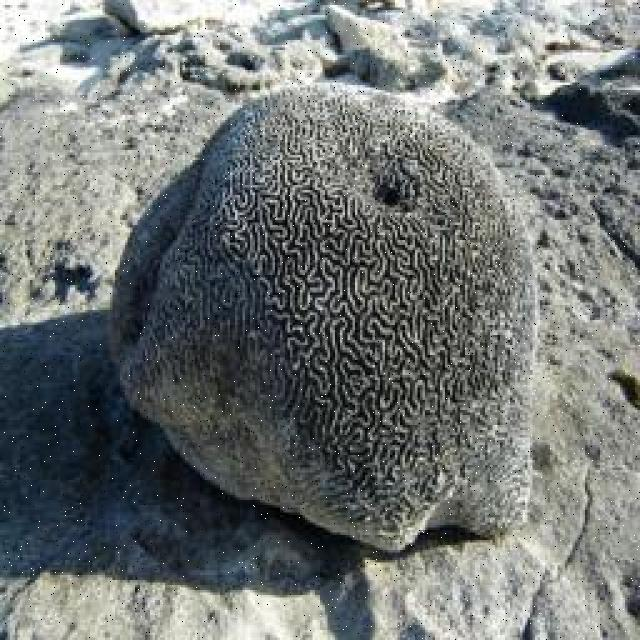reefs: (110, 81, 538, 554)
